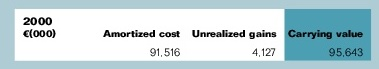table: (0, 0, 379, 69)
